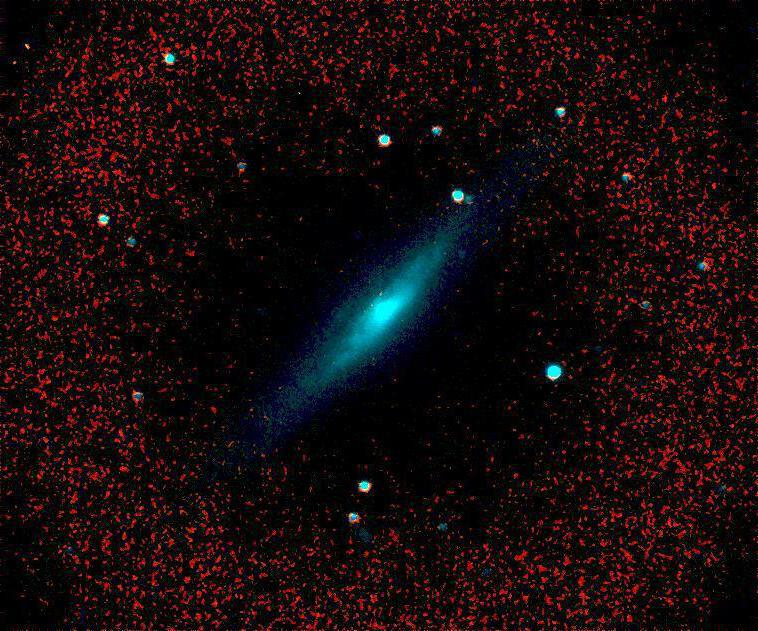star: (317, 348, 347, 378)
